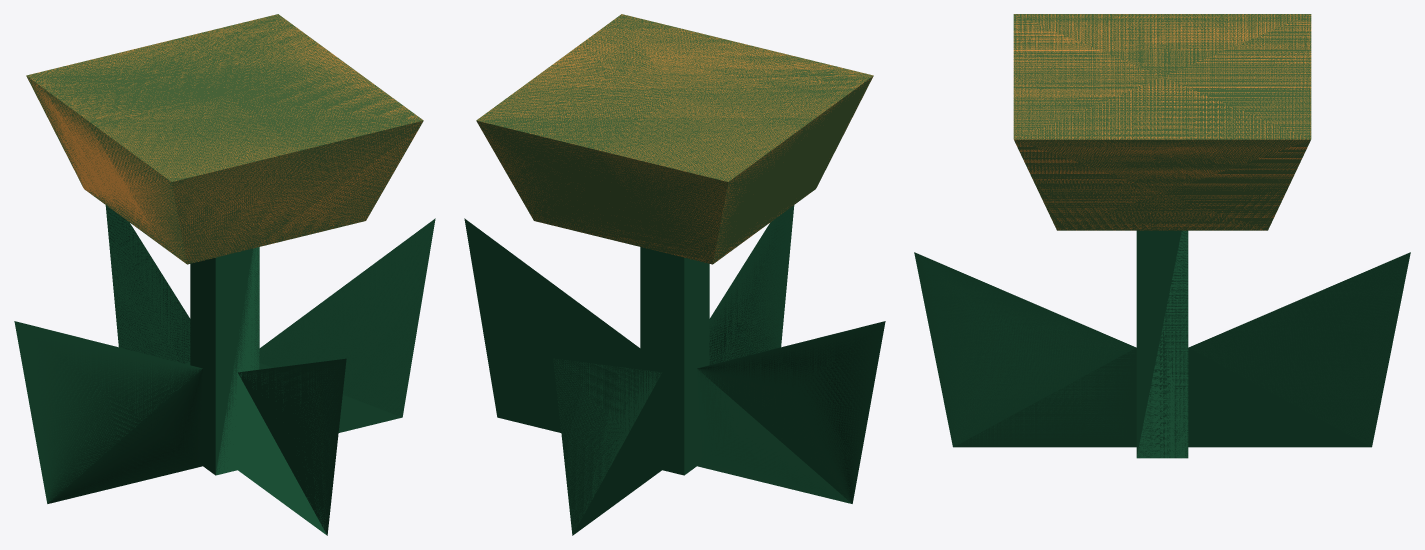
File: Flower_Yellow_02.obj
The picture shows the model from 3 angles, left to right: view 1: azimuth 30°, elevation 25°; view 2: azimuth 150°, elevation 25°; view 3: azimuth 270°, elevation 25°; orthographic projection. The views are drawn at different scales.
Visible parts, largest first — view 1: twenty_two, one, seventeen, sixteen, twenty, eighteen, nineteen; view 2: twenty_two, seventeen, one, sixteen, thirteen, nineteen, twelve, eighteen; view 3: one, seventeen, twenty_two, sixteen, fifteen, fourteen.
Boxes of the visible parts, box(x1,y1,x2,y2) form: twenty_two: box(14, 121, 423, 503); one: box(190, 218, 435, 535); seventeen: box(26, 14, 423, 181); sixteen: box(28, 15, 422, 181); twenty: box(172, 120, 423, 263); eighteen: box(27, 76, 186, 262); nineteen: box(26, 76, 186, 263); twenty_two: box(553, 321, 885, 535); seventeen: box(476, 14, 873, 181); one: box(464, 205, 794, 475); sixteen: box(478, 14, 872, 181); thirteen: box(476, 120, 727, 264); nineteen: box(713, 76, 873, 263); twelve: box(477, 121, 726, 263); eighteen: box(713, 77, 872, 262); one: box(914, 230, 1188, 458); seventeen: box(1013, 14, 1311, 139); twenty_two: box(1188, 252, 1410, 447); sixteen: box(1013, 14, 1311, 139); fifteen: box(1014, 139, 1310, 230); fourteen: box(1014, 139, 1310, 230).
Bounding box in the file's own units: 1 × 0.8232 × 1.
